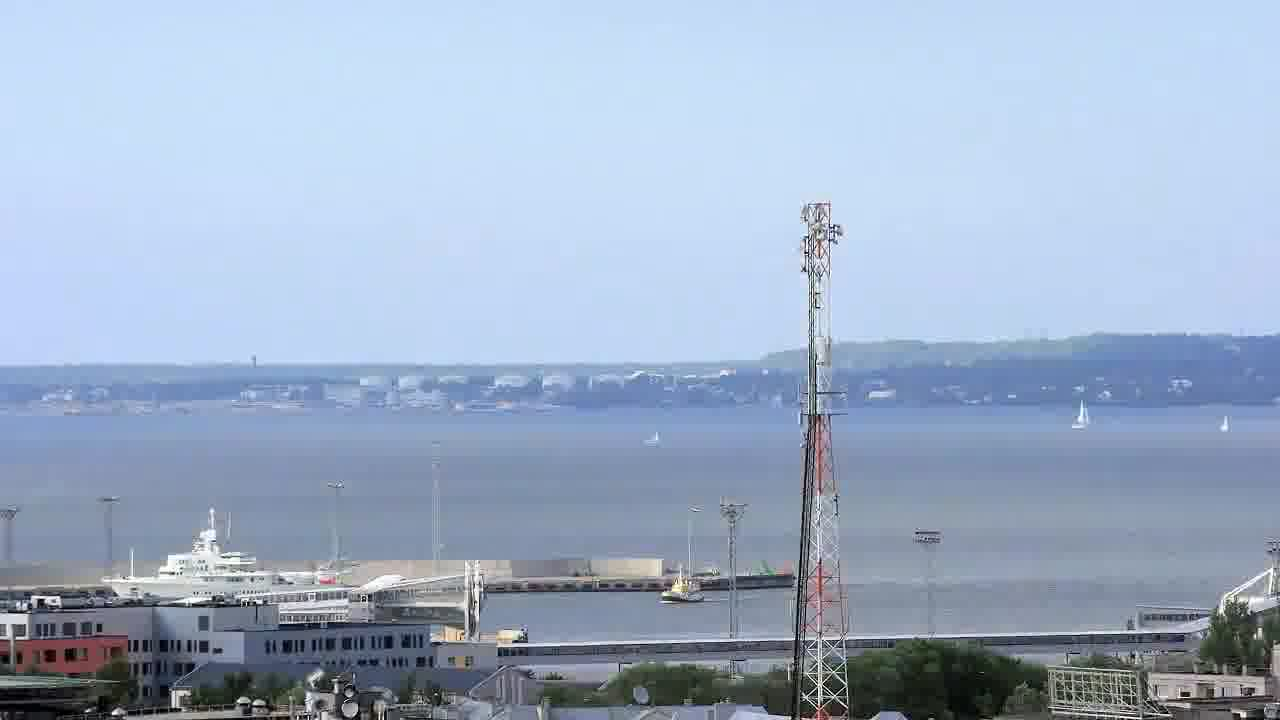type-0: (647, 570, 727, 608)
type-2: (1059, 383, 1100, 445)
type-3: (88, 507, 346, 605)
